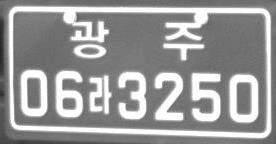0: (228, 72, 259, 123), (19, 68, 49, 116)
2: (154, 72, 183, 121)
3: (117, 70, 146, 120)
5: (190, 71, 222, 121)
6: (54, 69, 84, 118)
광주_D: (70, 20, 204, 60)
라: (88, 73, 111, 114)
